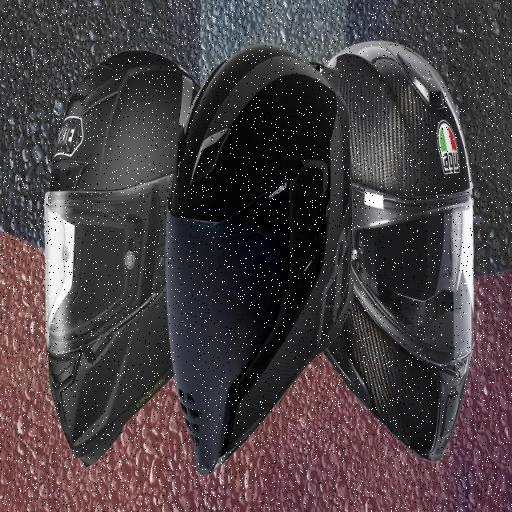Helmet: (167, 46, 351, 472), (45, 52, 198, 464), (328, 42, 472, 460)
